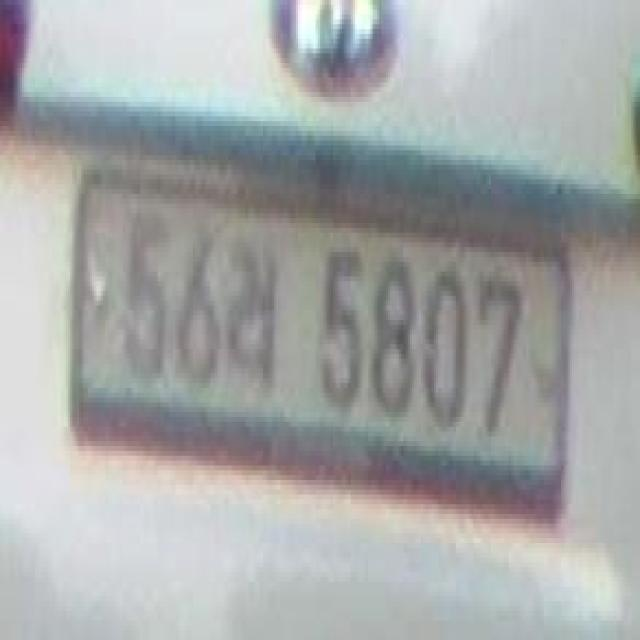illegal_plate: (73, 171, 578, 541)
